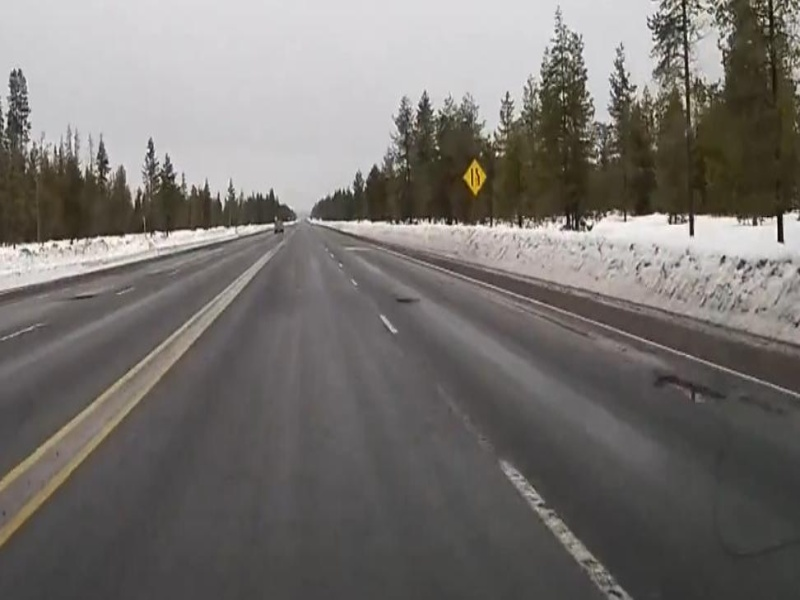pothole: (636, 367, 723, 410)
